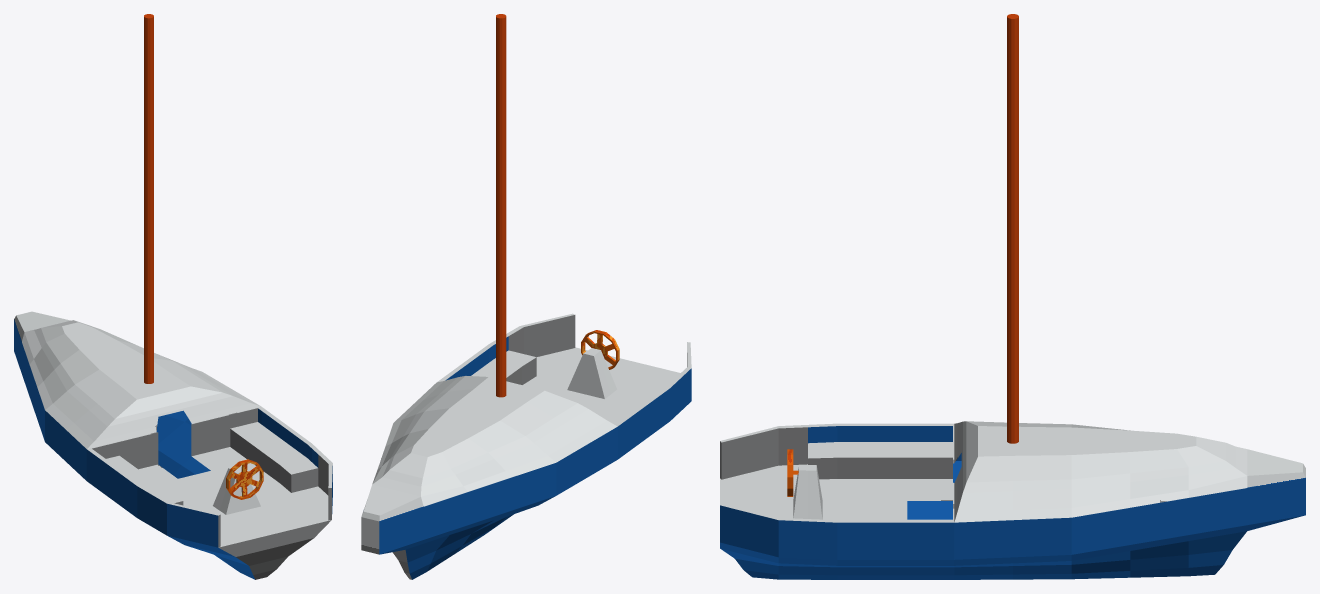
Rendered from Sailboat.gltf.
The picture shows the model from 3 angles, left to right: view 1: azimuth 30°, elevation 25°; view 2: azimuth 150°, elevation 25°; view 3: azimuth 270°, elevation 25°; orthographic projection. The views are drawn at different scales.
Parts seen in each view (by area): view 1: boat, Mast, wheel; view 2: boat, Mast, wheel; view 3: boat, Mast.
Part boxes in pixels (x1=…): boat: x1=14, y1=311, x2=332, y2=579; Mast: x1=144, y1=14, x2=153, y2=383; wheel: x1=226, y1=459, x2=263, y2=499; boat: x1=361, y1=313, x2=691, y2=579; Mast: x1=496, y1=14, x2=506, y2=397; wheel: x1=581, y1=330, x2=619, y2=369; boat: x1=720, y1=421, x2=1305, y2=579; Mast: x1=1007, y1=14, x2=1018, y2=443.
Bounding box in the file's own units: 2.5 × 6.56 × 6.25.
Materials: 3 (3 with a texture image).
